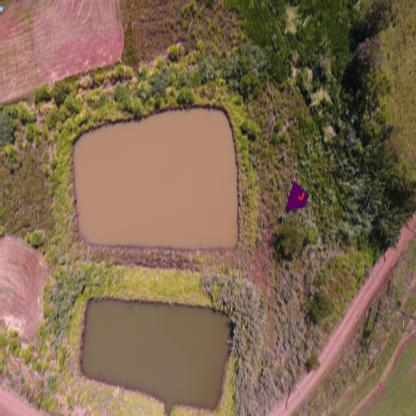J: (298, 189, 306, 203)
trapezium: (284, 179, 309, 212)
